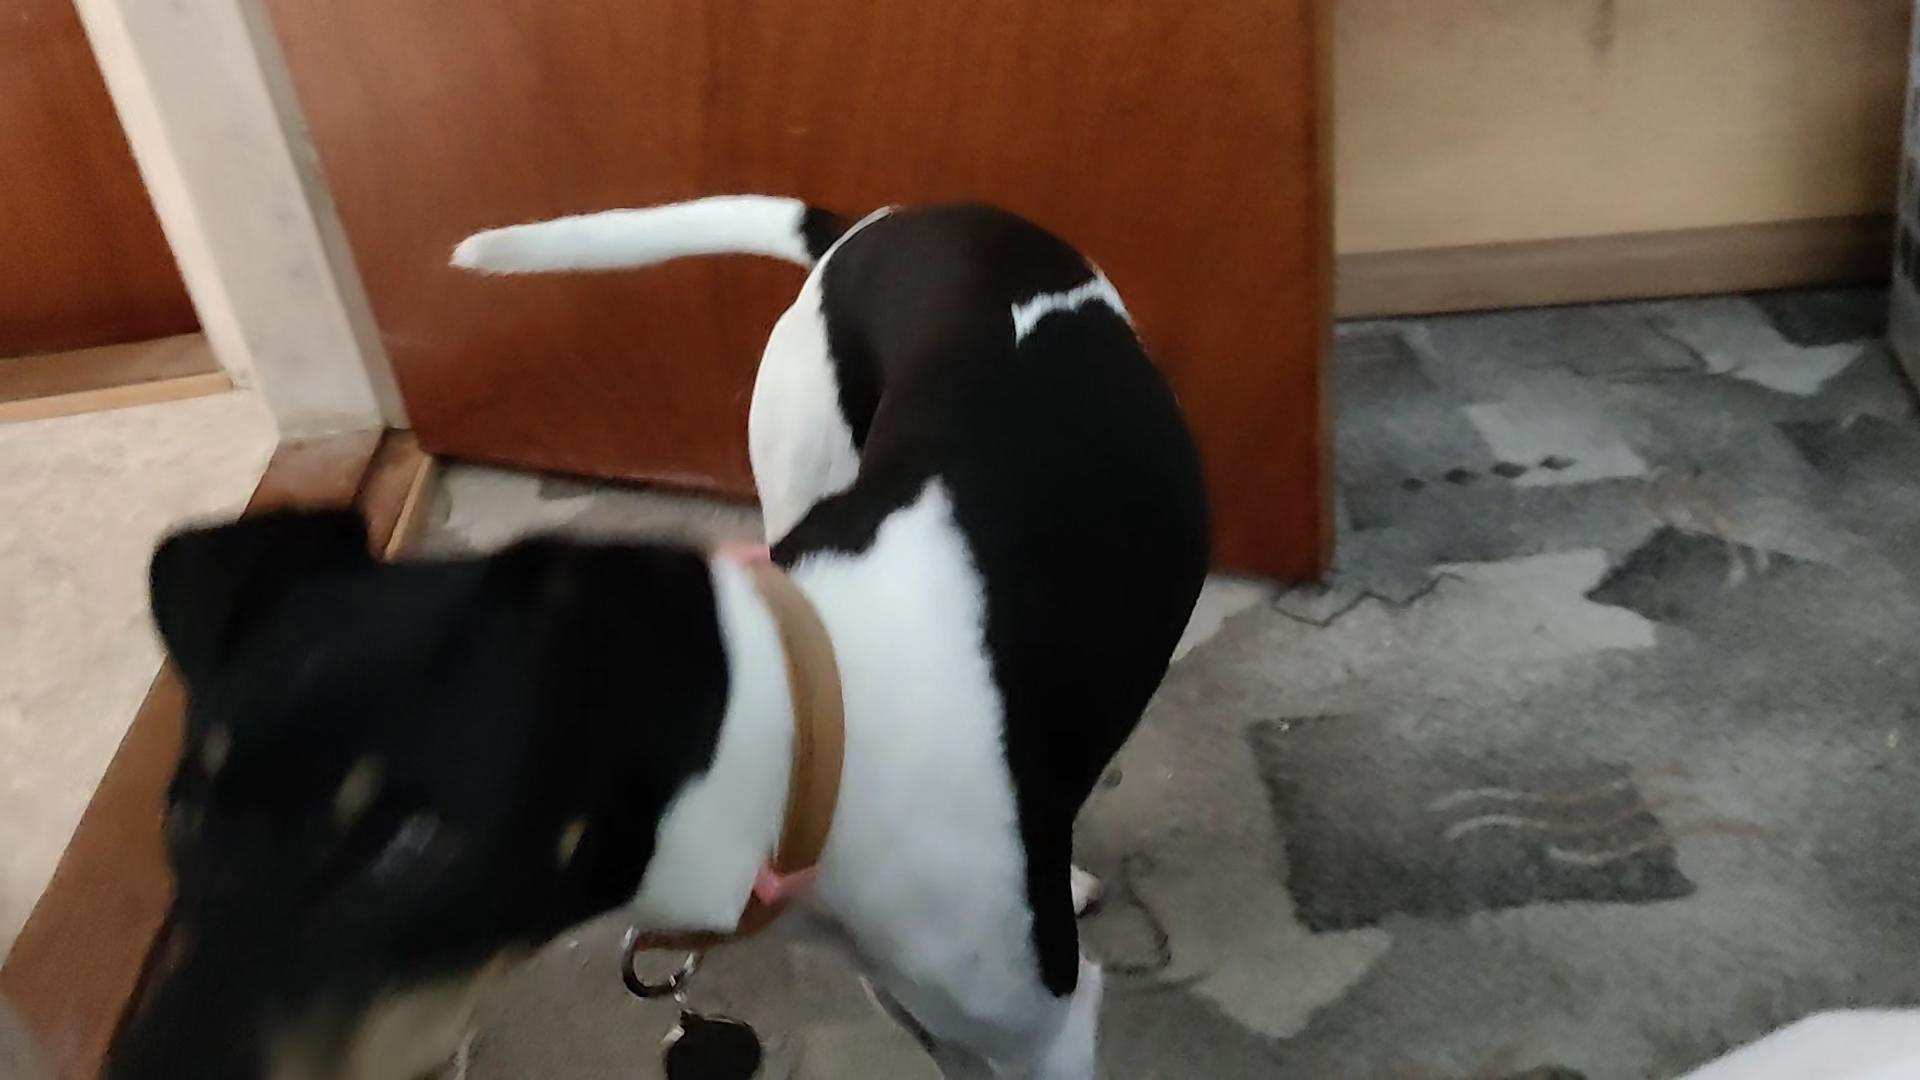Dog: (87, 191, 1222, 1079)
